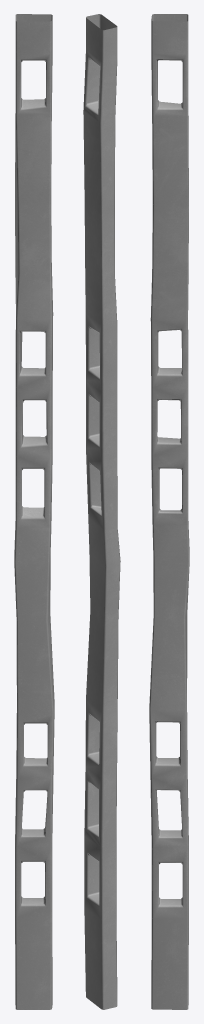
File: SM_pole_metal.fbx
The picture shows the model from 3 angles, left to right: view 1: azimuth 90°, elevation 25°; view 2: azimuth 210°, elevation 25°; view 3: azimuth 270°, elevation 25°; orthographic projection.
Visible parts, largest first — view 1: SM_pole_metal_LOD0; view 2: SM_pole_metal_LOD0; view 3: SM_pole_metal_LOD0.
Part boxes in pixels (x1=…): SM_pole_metal_LOD0: x1=14, y1=14, x2=54, y2=1009; SM_pole_metal_LOD0: x1=83, y1=14, x2=120, y2=1009; SM_pole_metal_LOD0: x1=149, y1=14, x2=189, y2=1009.
Bounding box in the file's own units: 6.48 × 11.15 × 300.
